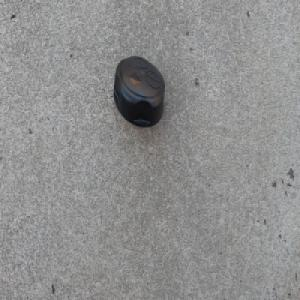FuelCap: (112, 54, 165, 132)
